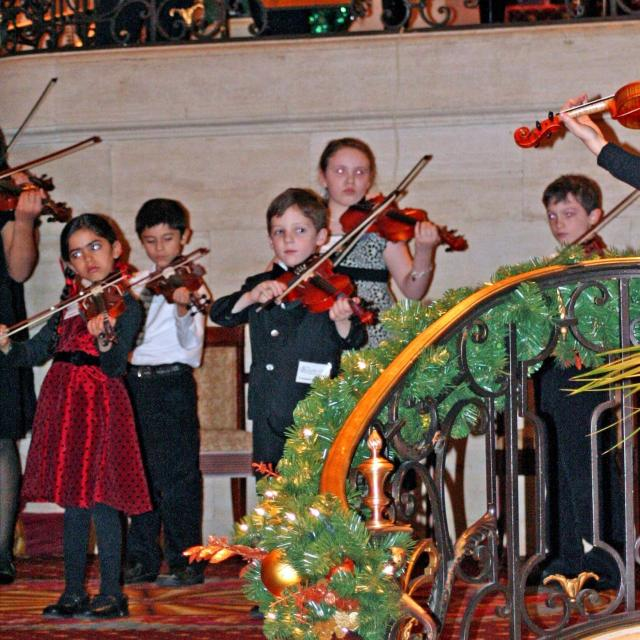violin: (504, 81, 640, 151), (337, 188, 474, 255), (274, 250, 381, 332), (143, 248, 215, 318), (76, 266, 130, 350), (0, 170, 78, 228)
